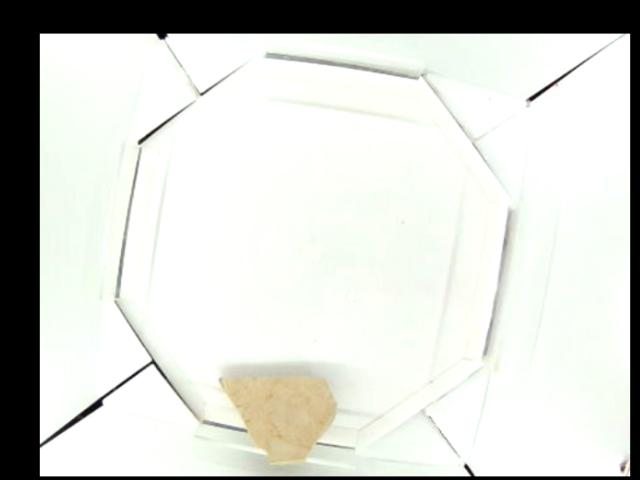China: (215, 375, 335, 466)
